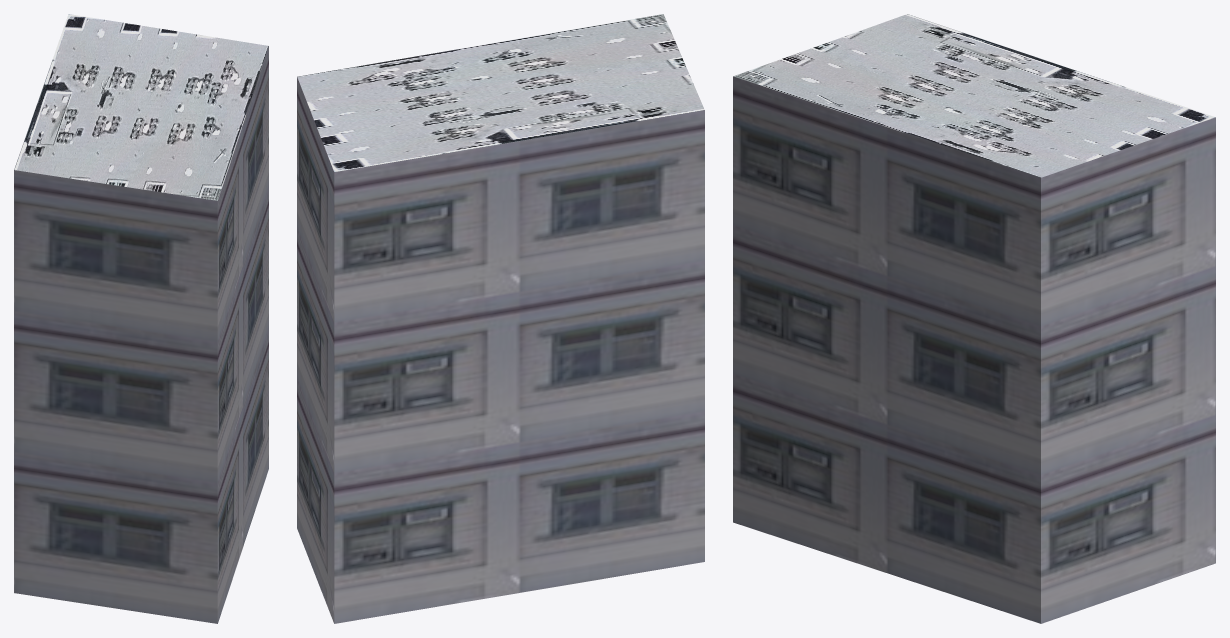
File: ResTex__3059.fbx
The picture shows the model from 3 angles, left to right: view 1: azimuth 30°, elevation 25°; view 2: azimuth 150°, elevation 25°; view 3: azimuth 270°, elevation 25°; orthographic projection. The views are drawn at different scales.
Parts seen in each view (by area): view 1: CityEngineMaterial_1_m, CityEngineMaterial_4_m; view 2: CityEngineMaterial_1_m, CityEngineMaterial_4_m; view 3: CityEngineMaterial_1_m, CityEngineMaterial_4_m.
Boxes of the visible parts, <box> form: CityEngineMaterial_1_m: <box>14,46,268,623</box>; CityEngineMaterial_4_m: <box>14,14,268,200</box>; CityEngineMaterial_1_m: <box>297,77,704,623</box>; CityEngineMaterial_4_m: <box>297,14,704,171</box>; CityEngineMaterial_1_m: <box>733,76,1215,623</box>; CityEngineMaterial_4_m: <box>733,14,1215,177</box>.
Bounding box in the file's own units: 7.09 × 9 × 8.82.
Materials: 2 (2 with a texture image).
